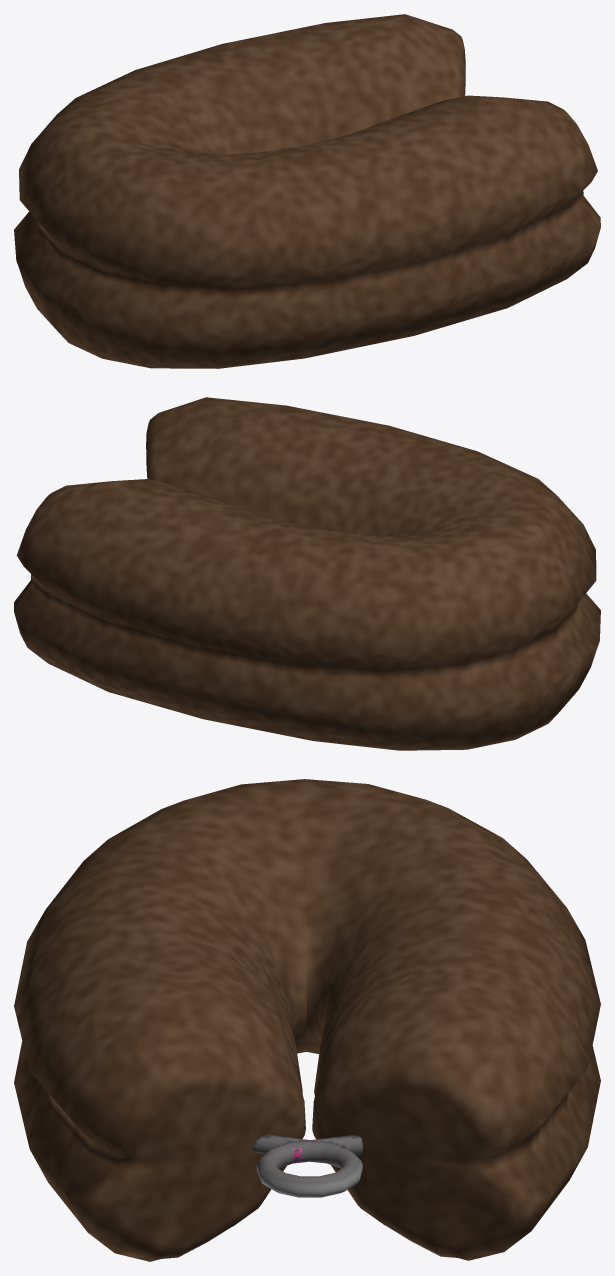
File: Scrubbing_brush.fbx
3 renders of one model, top to bottom at view 1: azimuth 30°, elevation 25°; view 2: azimuth 150°, elevation 25°; view 3: azimuth 270°, elevation 25°, orthographic. The views are drawn at different scales.
Visible parts, largest first — view 1: Scrubbing_brush; view 2: Scrubbing_brush; view 3: Scrubbing_brush.
Boxes of the visible parts, x1,y1,x2,y2 form: Scrubbing_brush: (14, 14, 600, 368); Scrubbing_brush: (14, 397, 600, 750); Scrubbing_brush: (14, 779, 600, 1261).
Bounding box in the file's own units: 0.8032 × 0.2894 × 0.616.
Materials: 1 (1 with a texture image).
